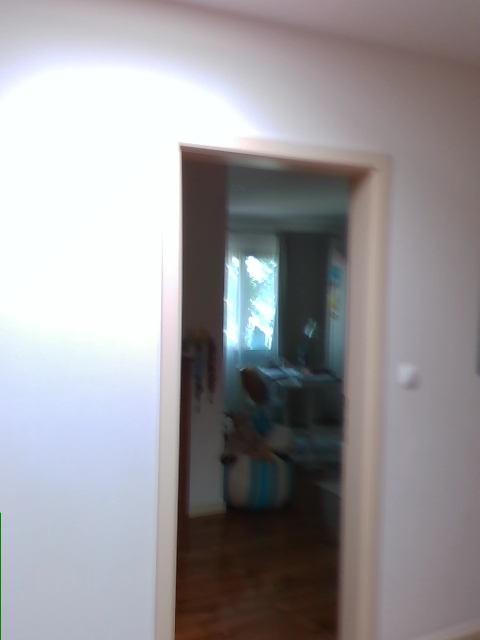open: (157, 130, 390, 639)
